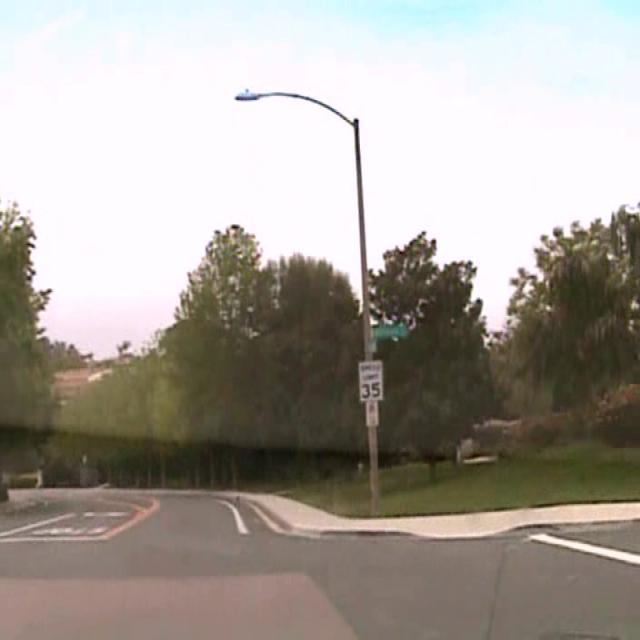speedLimit35: (357, 359, 384, 404)
